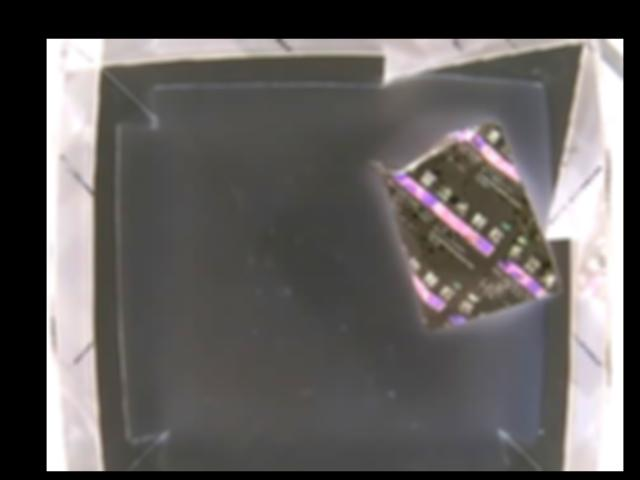Medicine: (367, 116, 560, 334)
